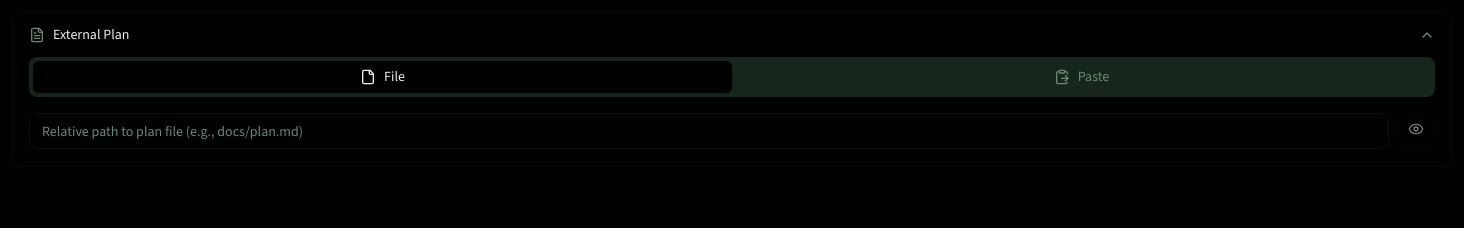
Scenario: PlanImportSection › file preview (text input fallback) › shows error when file is empty
Type "empty.md" into the field with placeholder "Relative path to plan file (e.g., docs/plan.md)" at (709, 131), box [29,113,1389,149]
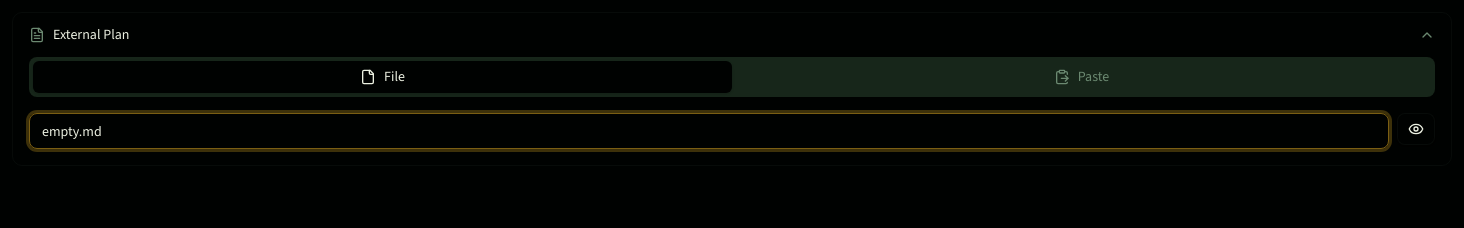
Click the button named "preview" at (1416, 129), box [1397,113,1435,145]
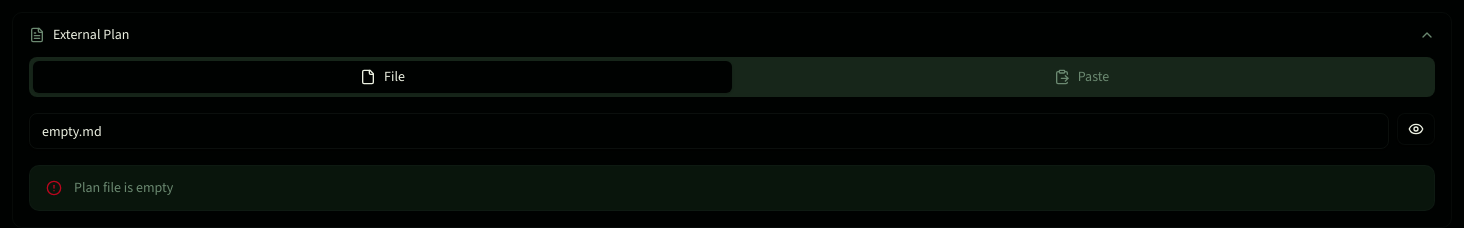
Result: the text "Plan file is empty" is shown at [74,178,173,197]
